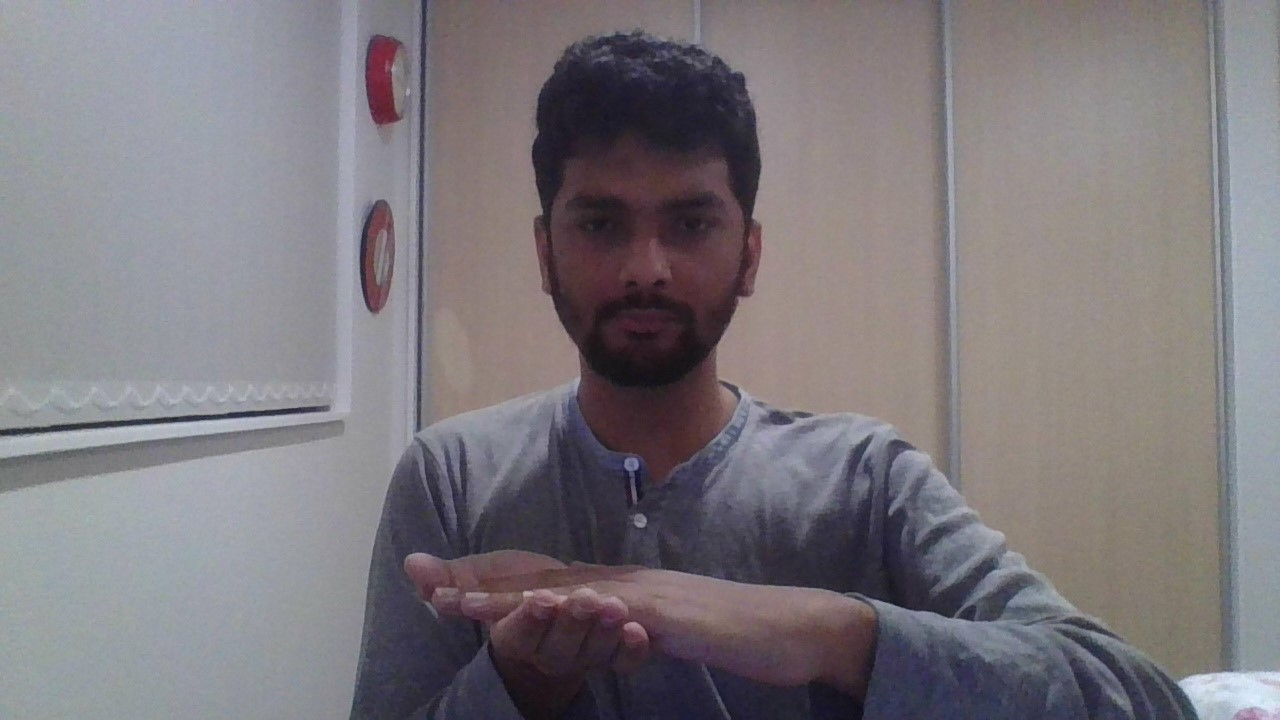clear: (404, 550, 845, 687)
